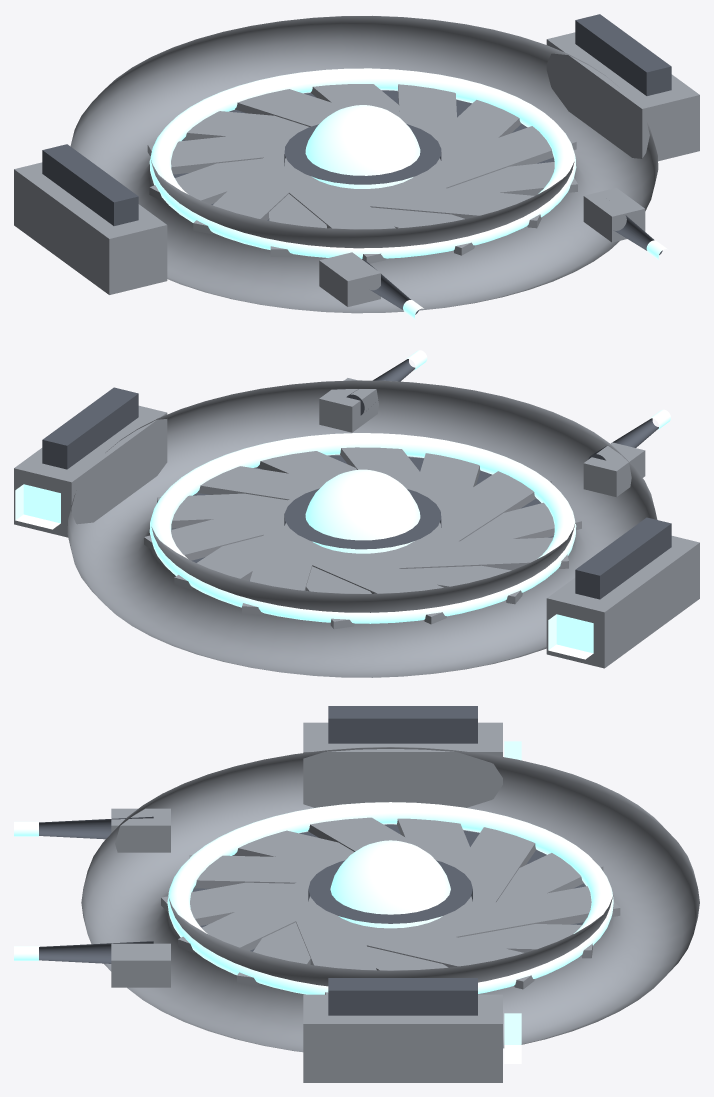
Rendered from drone_iris_6.glb.
3 renders of one model, top to bottom at view 1: azimuth 30°, elevation 25°; view 2: azimuth 150°, elevation 25°; view 3: azimuth 270°, elevation 25°, orthographic. The views are drawn at different scales.
Visible parts, largest first — view 1: drone_iris_6; view 2: drone_iris_6; view 3: drone_iris_6.
Part boxes in pixels (<box>): drone_iris_6: <box>14,14,699,319</box>; drone_iris_6: <box>14,350,699,677</box>; drone_iris_6: <box>14,706,699,1082</box>.
Bounding box in the file's own units: 28.6 × 5 × 27.5.
